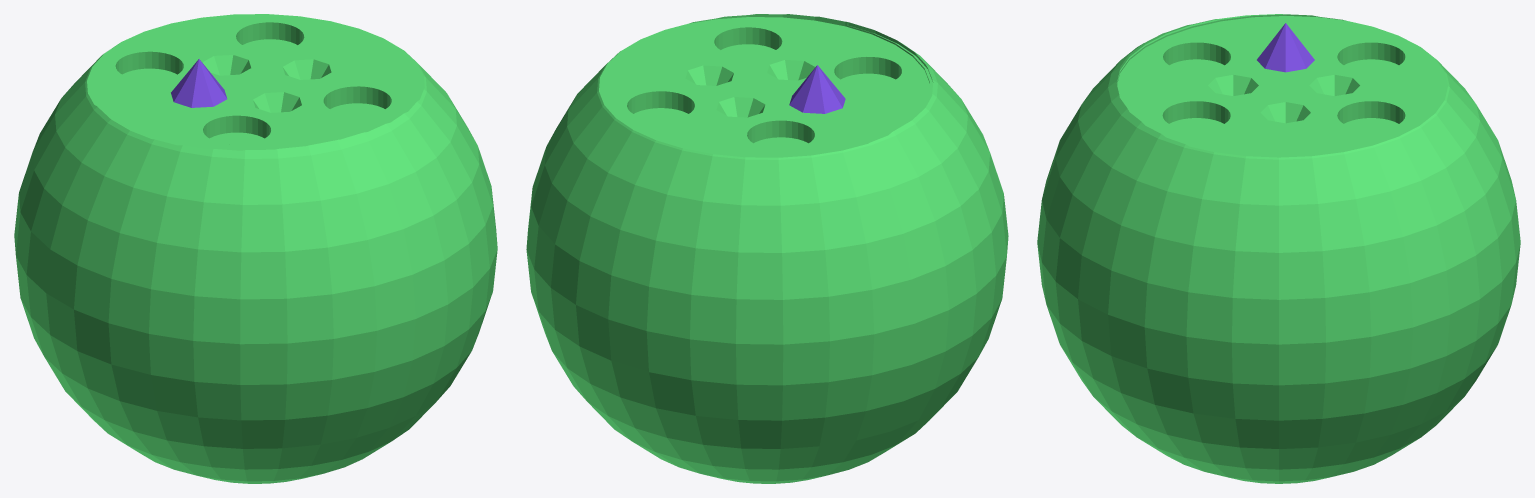
The model's file is wip_robot_head_without_negate.glb.
3 renders of one model, left to right at view 1: azimuth 30°, elevation 25°; view 2: azimuth 150°, elevation 25°; view 3: azimuth 270°, elevation 25°, orthographic.
Visible parts, largest first — view 1: Sphere, Cone.004; view 2: Sphere, Cone.004; view 3: Sphere, Cone.004.
Part boxes in pixels (x1=…): Sphere: x1=14, y1=14, x2=497, y2=483; Cone.004: x1=171, y1=59, x2=227, y2=107; Sphere: x1=526, y1=14, x2=1008, y2=483; Cone.004: x1=789, y1=65, x2=845, y2=113; Sphere: x1=1037, y1=14, x2=1520, y2=483; Cone.004: x1=1257, y1=23, x2=1314, y2=72.
Size of the model in its own units: 22.97 by 21.64 by 22.97.
